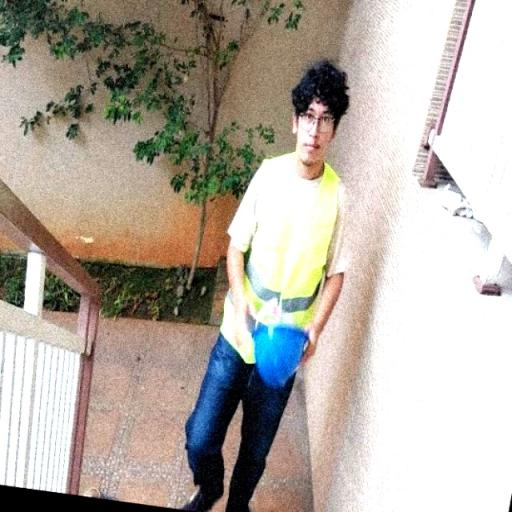Person: (160, 44, 386, 506)
boots: (178, 479, 254, 512)
helmet: (251, 325, 309, 389)
none: (284, 59, 358, 170), (226, 281, 256, 356), (286, 316, 325, 370)
vest: (221, 146, 347, 368)
